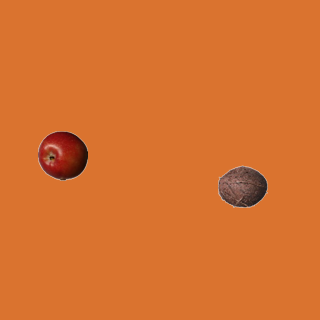Apple Braeburn: (37, 130, 87, 180)
Cocos: (217, 161, 267, 211)
